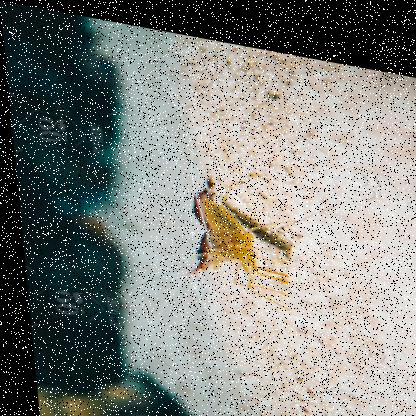shrimp: (178, 163, 285, 296)
